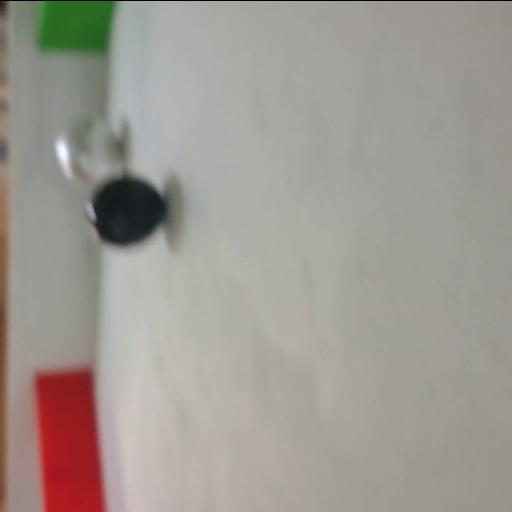alive: (54, 112, 125, 184)
dead: (84, 172, 166, 248)
